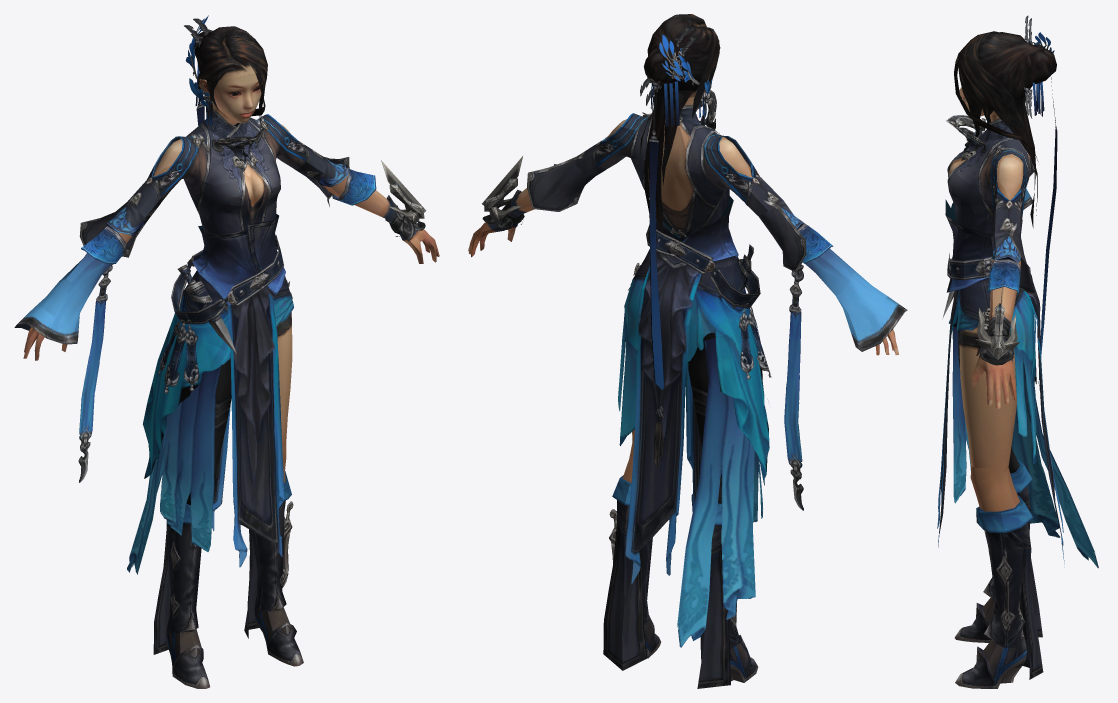
Rendered from tangmen_1.DAE.
The picture shows the model from 3 angles, left to right: view 1: azimuth 30°, elevation 25°; view 2: azimuth 150°, elevation 25°; view 3: azimuth 270°, elevation 25°; orthographic projection. The views are drawn at different scales.
Parts seen in each view (by area): view 1: obj2bbc5be8.obj, obj27183f18.obj, obj2bbc8808.obj, obj2717d0c8.obj, obj27183410.obj, obj2bbbd788.obj; view 2: obj2bbc5be8.obj, obj27183f18.obj, obj2bbc8808.obj, obj27183410.obj, obj2717d0c8.obj; view 3: obj2bbc5be8.obj, obj2bbc8808.obj, obj27183410.obj, obj27183f18.obj, obj2717d0c8.obj.
Part boxes in pixels (left/top/right/bottom): obj2bbc5be8.obj: left=127, top=101, right=305, bottom=574; obj27183f18.obj: left=14, top=141, right=439, bottom=482; obj2bbc8808.obj: left=153, top=312, right=303, bottom=688; obj2717d0c8.obj: left=158, top=214, right=285, bottom=393; obj27183410.obj: left=184, top=15, right=267, bottom=130; obj2bbbd788.obj: left=199, top=73, right=262, bottom=123; obj2bbc5be8.obj: left=595, top=90, right=769, bottom=647; obj27183f18.obj: left=468, top=140, right=907, bottom=510; obj2bbc8808.obj: left=603, top=333, right=758, bottom=688; obj27183410.obj: left=640, top=14, right=720, bottom=467; obj2717d0c8.obj: left=646, top=196, right=771, bottom=379; obj2bbc5be8.obj: left=937, top=114, right=1098, bottom=568; obj2bbc8808.obj: left=954, top=327, right=1043, bottom=688; obj27183410.obj: left=954, top=15, right=1057, bottom=448; obj27183f18.obj: left=972, top=157, right=1036, bottom=408; obj2717d0c8.obj: left=942, top=199, right=993, bottom=318.
Size of the model in its own units: 113 by 39.59 by 166.
7 materials, 6 textured.
